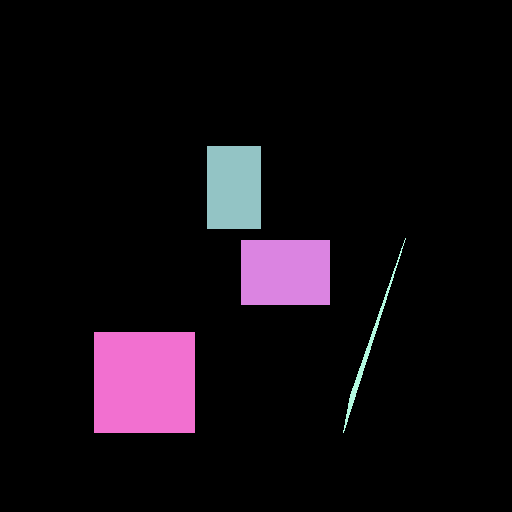rectangle: (241, 240, 329, 304), (207, 146, 260, 228)
square: (94, 332, 194, 432)
